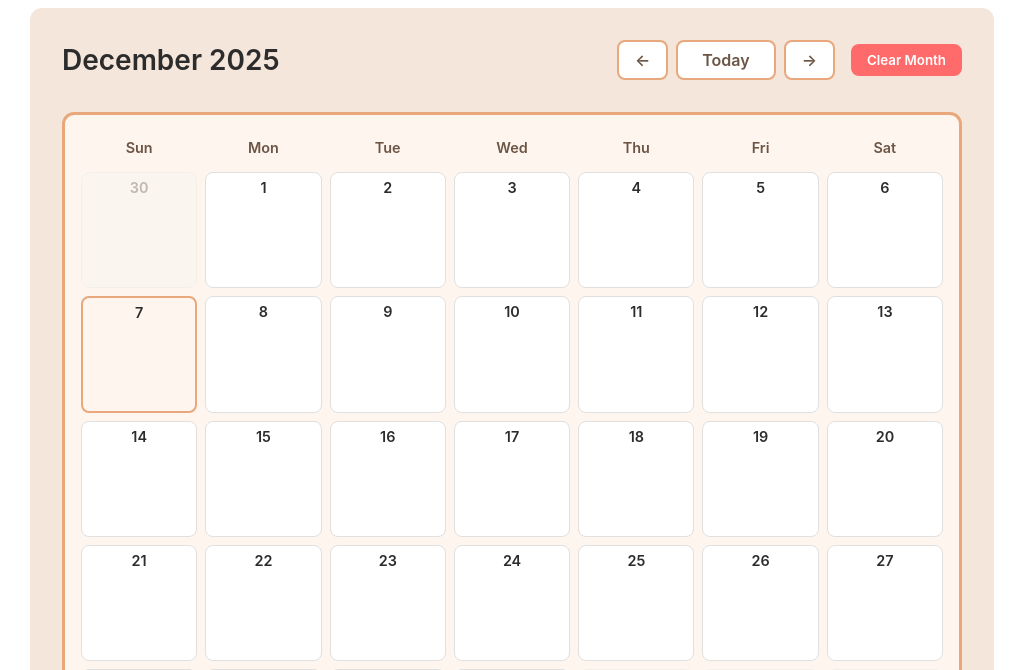
CalendarMonth › navigates to previous month when clicking previous button
Click the button "←": (643, 60) [617, 40, 668, 80]
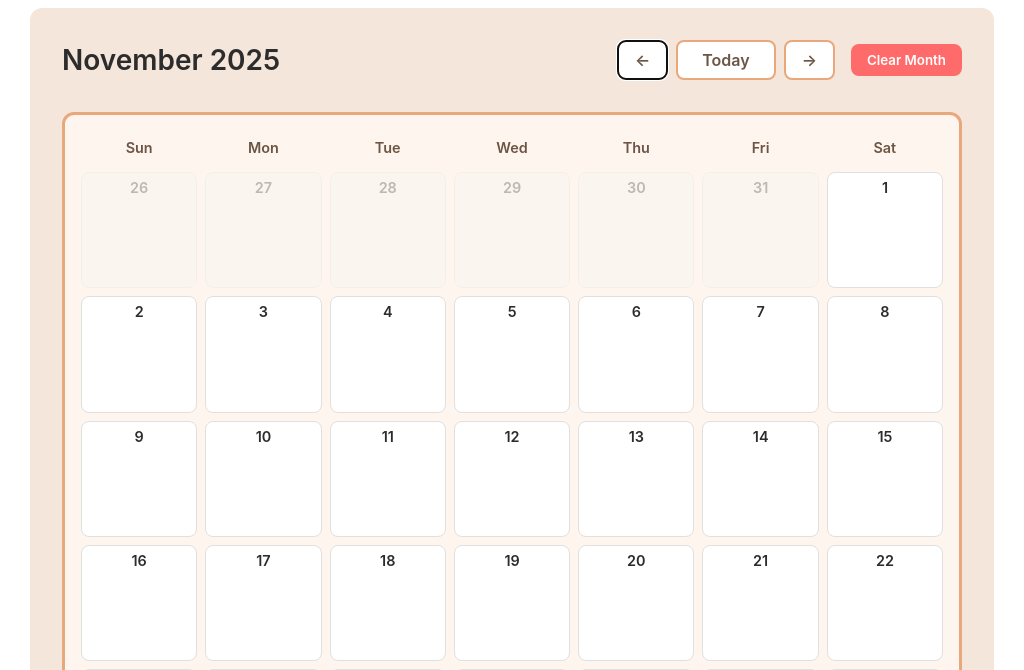
expect the heading "November 2025" is shown: met, box [62, 43, 280, 77]
